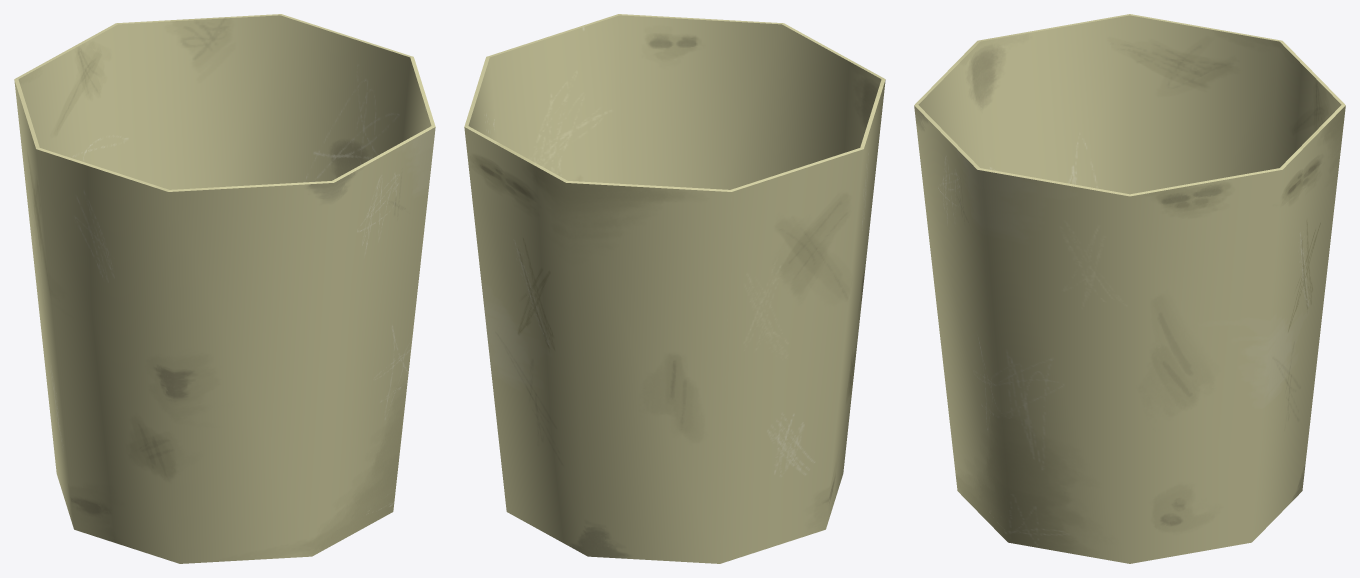
The model's file is vaso_pequeno_.fbx.
3 renders of one model, left to right at view 1: azimuth 30°, elevation 25°; view 2: azimuth 150°, elevation 25°; view 3: azimuth 270°, elevation 25°, orthographic.
Visible parts, largest first — view 1: vaso_pequeño_term; view 2: vaso_pequeño_term; view 3: vaso_pequeño_term.
Boxes of the visible parts, box(x1,y1,x2,y2) form: vaso_pequeño_term: box(14, 14, 435, 563); vaso_pequeño_term: box(464, 14, 885, 563); vaso_pequeño_term: box(914, 14, 1345, 563).
Bounding box in the file's own units: 8.16 × 8.08 × 8.16.
Materials: 1 (1 with a texture image).
